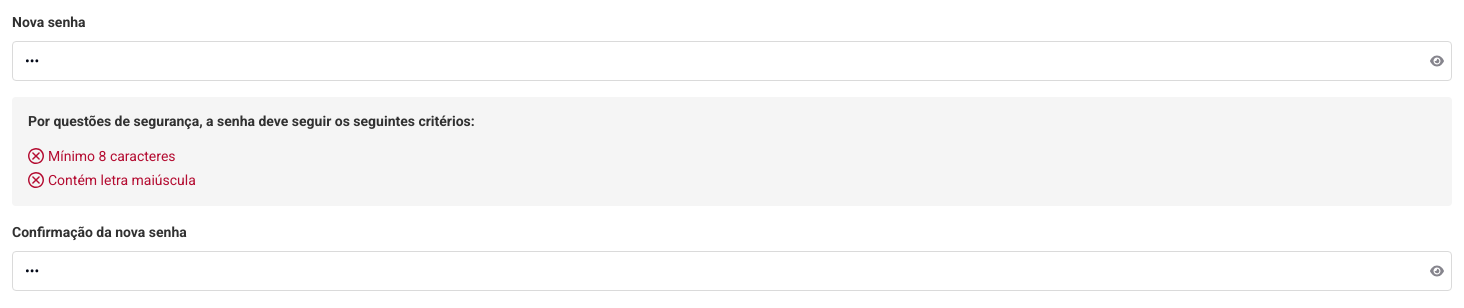
Test: InputSenhaComValidador › alterna visibilidade das senhas ao clicar nos botões de olho
The width and height of the screenshot is (1464, 308).
Click the 1st button: (1437, 61) [1430,54,1444,68]
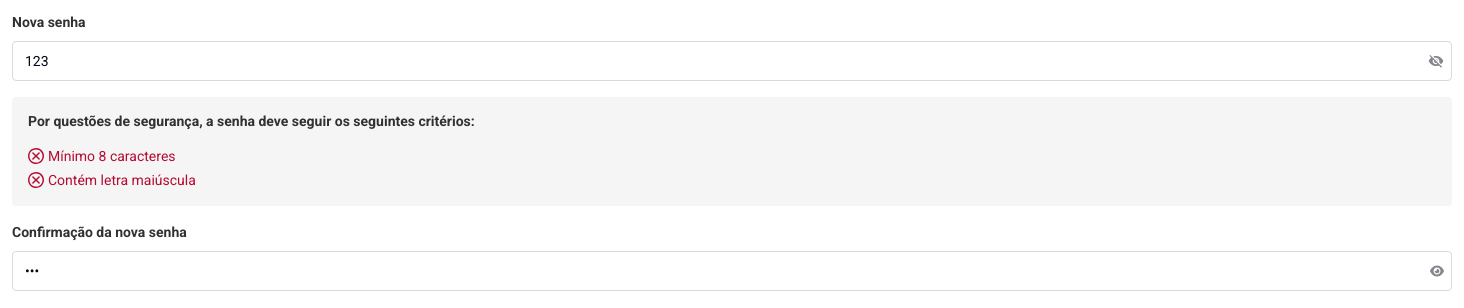
Expected: the field with placeholder "Digite sua senha" shows its text, [12,41,1452,81]
Click the 2nd button: (1437, 271) [1430,264,1444,278]
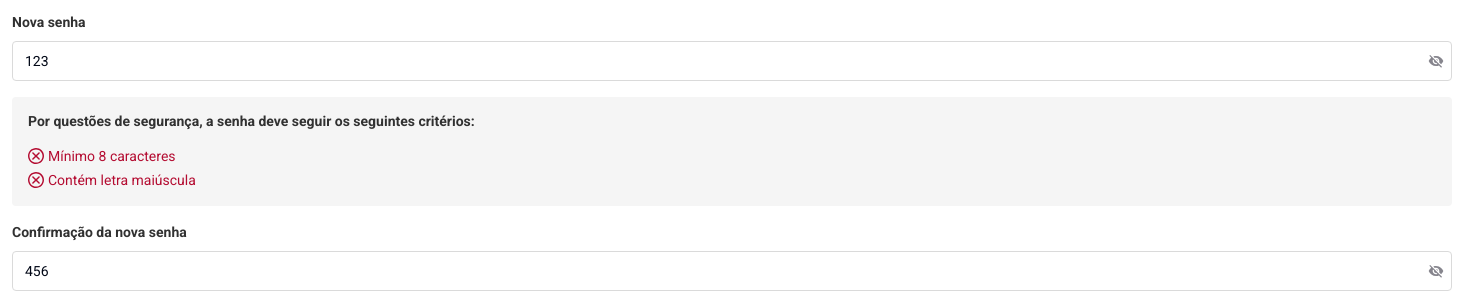
Expected: the 2nd field with placeholder "Confirme sua senha" shows its text, [12,251,1452,291]
